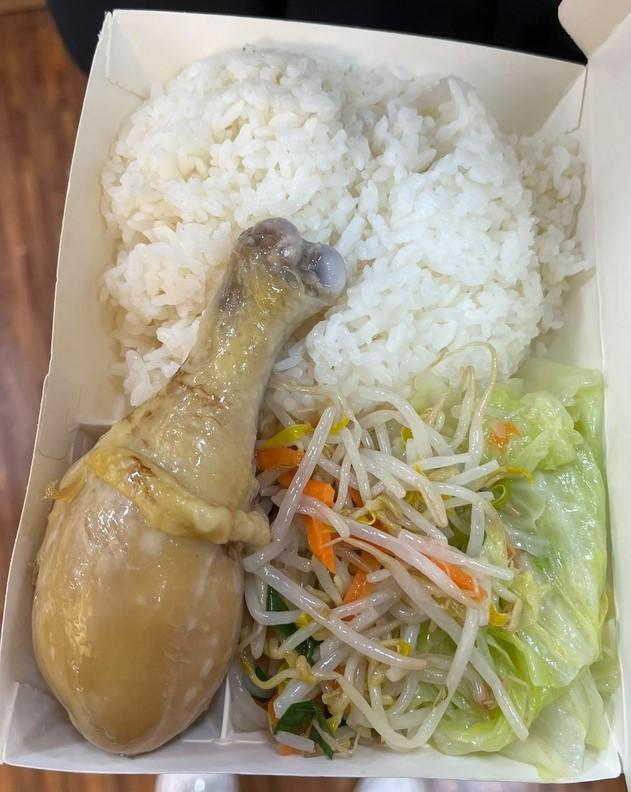big grilled chicken leg: (20, 5, 631, 792)
big herbal chicken leg: (91, 39, 589, 410)
braised fish fillet: (247, 391, 497, 750), (443, 367, 619, 767)
braised pork: (22, 220, 354, 759)
